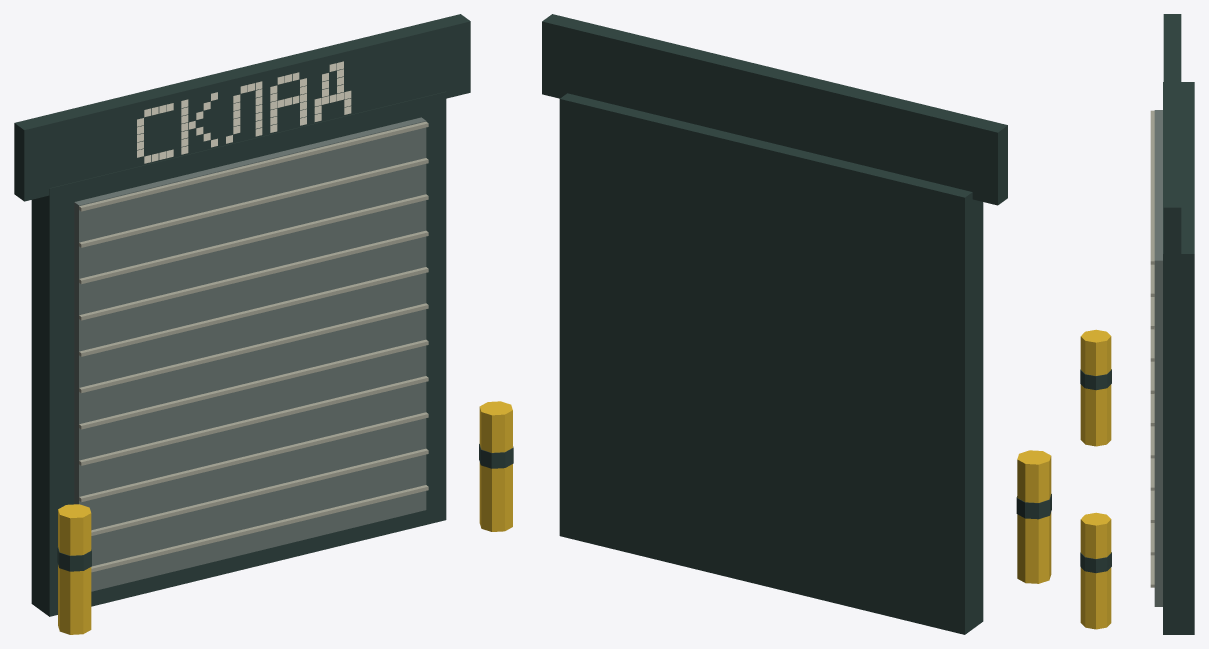
Rendered from StoreReceivingGate.obj.
The picture shows the model from 3 angles, left to right: view 1: azimuth 30°, elevation 25°; view 2: azimuth 150°, elevation 25°; view 3: azimuth 270°, elevation 25°; orthographic projection. The views are drawn at different scales.
Parts seen in each view (by area): view 1: StoreReceivingGate; view 2: StoreReceivingGate; view 3: StoreReceivingGate.
Part boxes in pixels (x1=…): StoreReceivingGate: x1=14, y1=14, x2=513, y2=634; StoreReceivingGate: x1=542, y1=14, x2=1051, y2=634; StoreReceivingGate: x1=1080, y1=14, x2=1194, y2=634.
Size of the model in its own units: 3.65 by 3.8 by 0.9.
